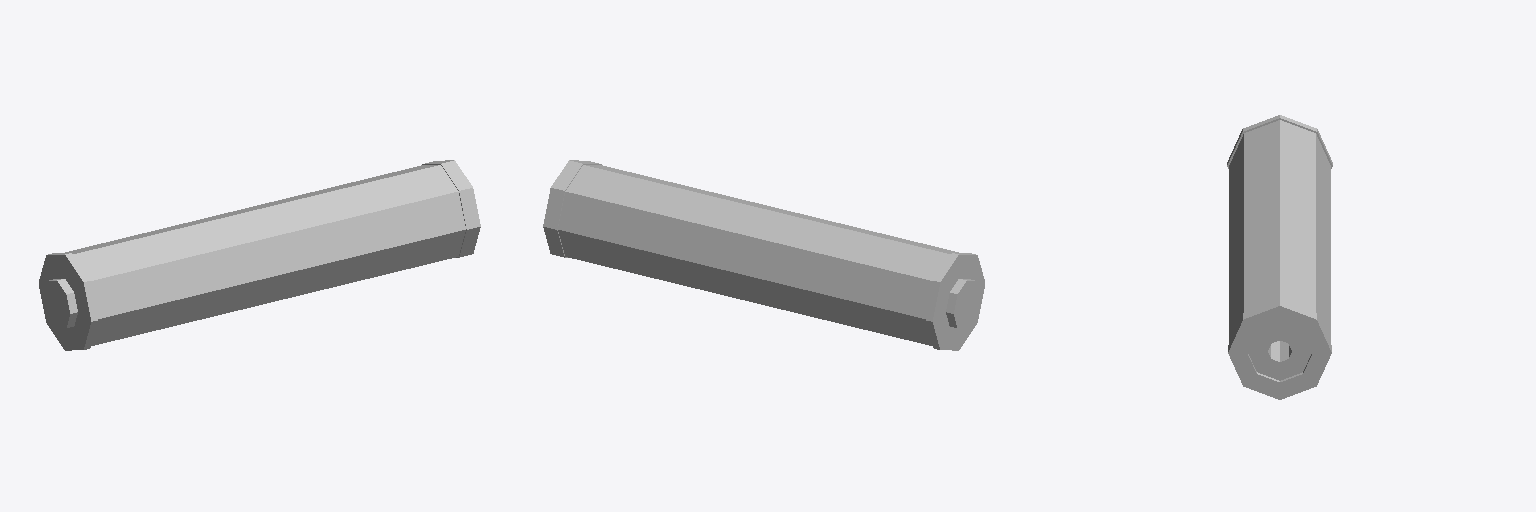
File: suppressor_normal.obj
The picture shows the model from 3 angles: view 1: azimuth 30°, elevation 25°; view 2: azimuth 150°, elevation 25°; view 3: azimuth 270°, elevation 25°; orthographic projection.
Visible parts, largest first — view 1: attachmentModel; view 2: attachmentModel; view 3: attachmentModel.
Boxes of the visible parts, x1=… form: attachmentModel: x1=39, y1=160, x2=480, y2=350; attachmentModel: x1=543, y1=160, x2=984, y2=350; attachmentModel: x1=1227, y1=115, x2=1332, y2=399.
Bounding box in the file's own units: 6.18 × 1.42 × 1.42.